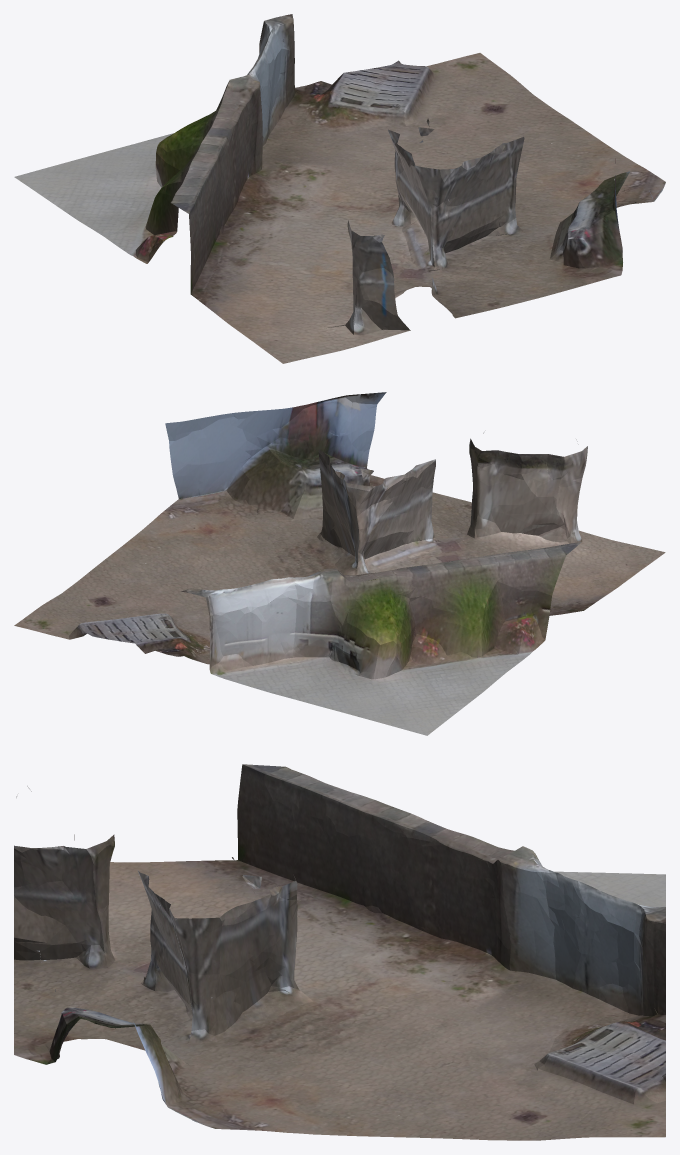
The picture shows the model from 3 angles, top to bottom: view 1: azimuth 30°, elevation 25°; view 2: azimuth 150°, elevation 25°; view 3: azimuth 270°, elevation 25°; orthographic projection. The views are drawn at different scales.
Bounding box in the file's own units: 8.36 × 1.95 × 8.36.
Materials: 3 (3 with a texture image).
